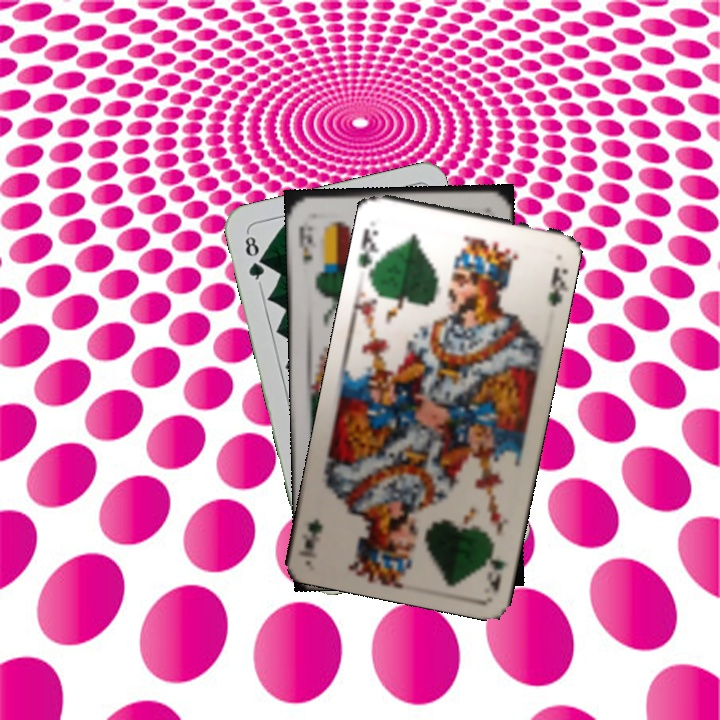EK: (294, 222, 315, 267)
G8: (241, 229, 268, 287)
GK: (481, 534, 510, 595), (354, 224, 383, 274)
